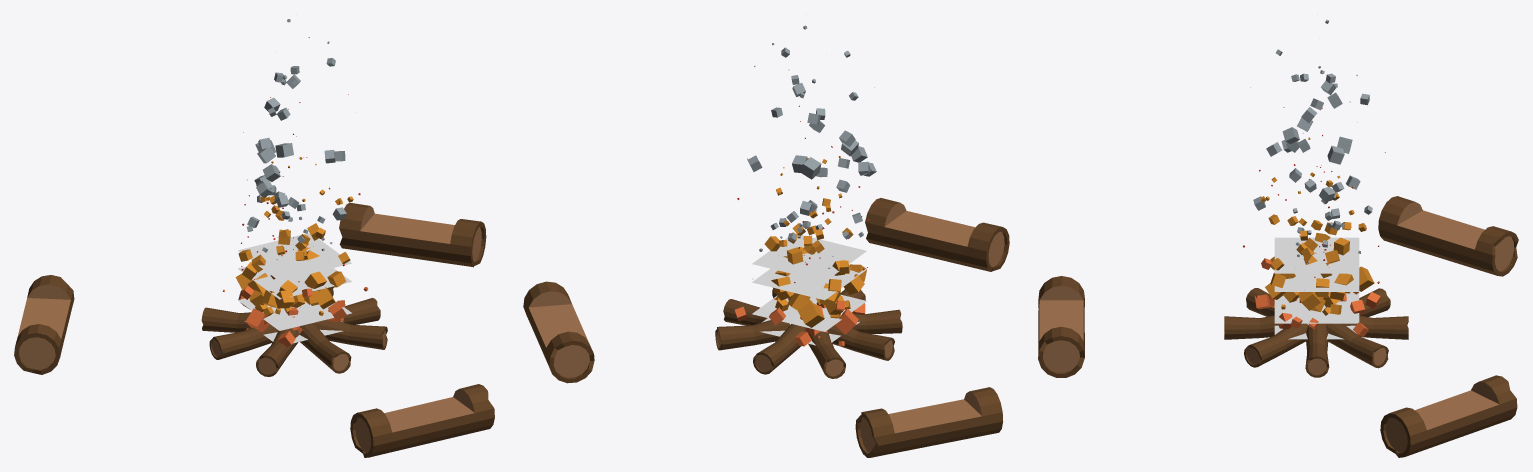
The model's file is Hoguera.fbx.
3 renders of one model, left to right at view 1: azimuth 30°, elevation 25°; view 2: azimuth 150°, elevation 25°; view 3: azimuth 270°, elevation 25°, orthographic.
Visible parts, largest first — view 1: Tronco_Sentarse.002, Tronco_Sentarse, Tronco_Sentarse.001, Emisor_Humo, Tronco_Fuego1.004, Tronco_Fuego1.003, Tronco_Fuego1, EmisorFuego, Tronco_Fuego1.006, Tronco_Fuego1.007, Emisor_Ambar, Tronco_Fuego1.001; view 2: Tronco_Sentarse.001, Tronco_Sentarse, Tronco_Sentarse.002, Emisor_Humo, Tronco_Fuego1.005, Emisor_Ambar, Tronco_Fuego1.003, Tronco_Fuego1.002, EmisorFuego, Tronco_Fuego1.006, Tronco_Fuego1.007, Tronco_Fuego1.001; view 3: Tronco_Sentarse.001, Tronco_Sentarse.002, Tronco_Sentarse, Emisor_Humo, EmisorFuego, Tronco_Fuego1.005, Tronco_Fuego1.004, Tronco_Fuego1, Emisor_Ambar, Tronco_Fuego1.001, Tronco_Fuego1.002.
Part boxes in pixels (box(x1,y1,x2,y2)): Tronco_Sentarse.002: box(339, 202, 486, 267); Tronco_Sentarse: box(350, 384, 494, 457); Tronco_Sentarse.001: box(14, 275, 74, 374); Emisor_Humo: box(238, 233, 351, 281); Tronco_Fuego1.004: box(314, 319, 387, 349); Tronco_Fuego1.003: box(209, 324, 278, 359); Tronco_Fuego1: box(299, 323, 351, 373); EmisorFuego: box(238, 298, 351, 330); Tronco_Fuego1.006: box(201, 307, 250, 332); Tronco_Fuego1.007: box(256, 328, 299, 376); Emisor_Ambar: box(238, 266, 351, 299); Tronco_Fuego1.001: box(342, 298, 380, 324); Tronco_Sentarse.001: box(855, 387, 1003, 457); Tronco_Sentarse: box(865, 198, 1009, 271); Tronco_Sentarse.002: box(523, 281, 594, 383); Emisor_Humo: box(752, 233, 866, 281); Tronco_Fuego1.005: box(715, 320, 789, 350); Emisor_Ambar: box(752, 265, 866, 300); Tronco_Fuego1.003: box(827, 325, 894, 360); Tronco_Fuego1.002: box(753, 324, 805, 374); EmisorFuego: box(752, 294, 866, 331); Tronco_Fuego1.006: box(808, 331, 845, 378); Tronco_Fuego1.007: box(852, 309, 902, 333); Tronco_Fuego1.001: box(723, 299, 767, 325); Tronco_Sentarse.001: box(1378, 196, 1518, 276); Tronco_Sentarse.002: box(1380, 375, 1517, 457); Tronco_Sentarse: box(1038, 276, 1084, 377); Emisor_Humo: box(1274, 237, 1359, 273); EmisorFuego: box(1274, 292, 1359, 323); Tronco_Fuego1.005: box(1326, 323, 1388, 368); Tronco_Fuego1.004: box(1244, 323, 1308, 367); Tronco_Fuego1: box(1224, 315, 1278, 339); Emisor_Ambar: box(1274, 273, 1359, 291); Tronco_Fuego1.001: box(1305, 323, 1329, 377); Tronco_Fuego1.002: box(1343, 315, 1408, 339).
Size of what is drawn, in the model's own units: 351 by 236 by 307.
